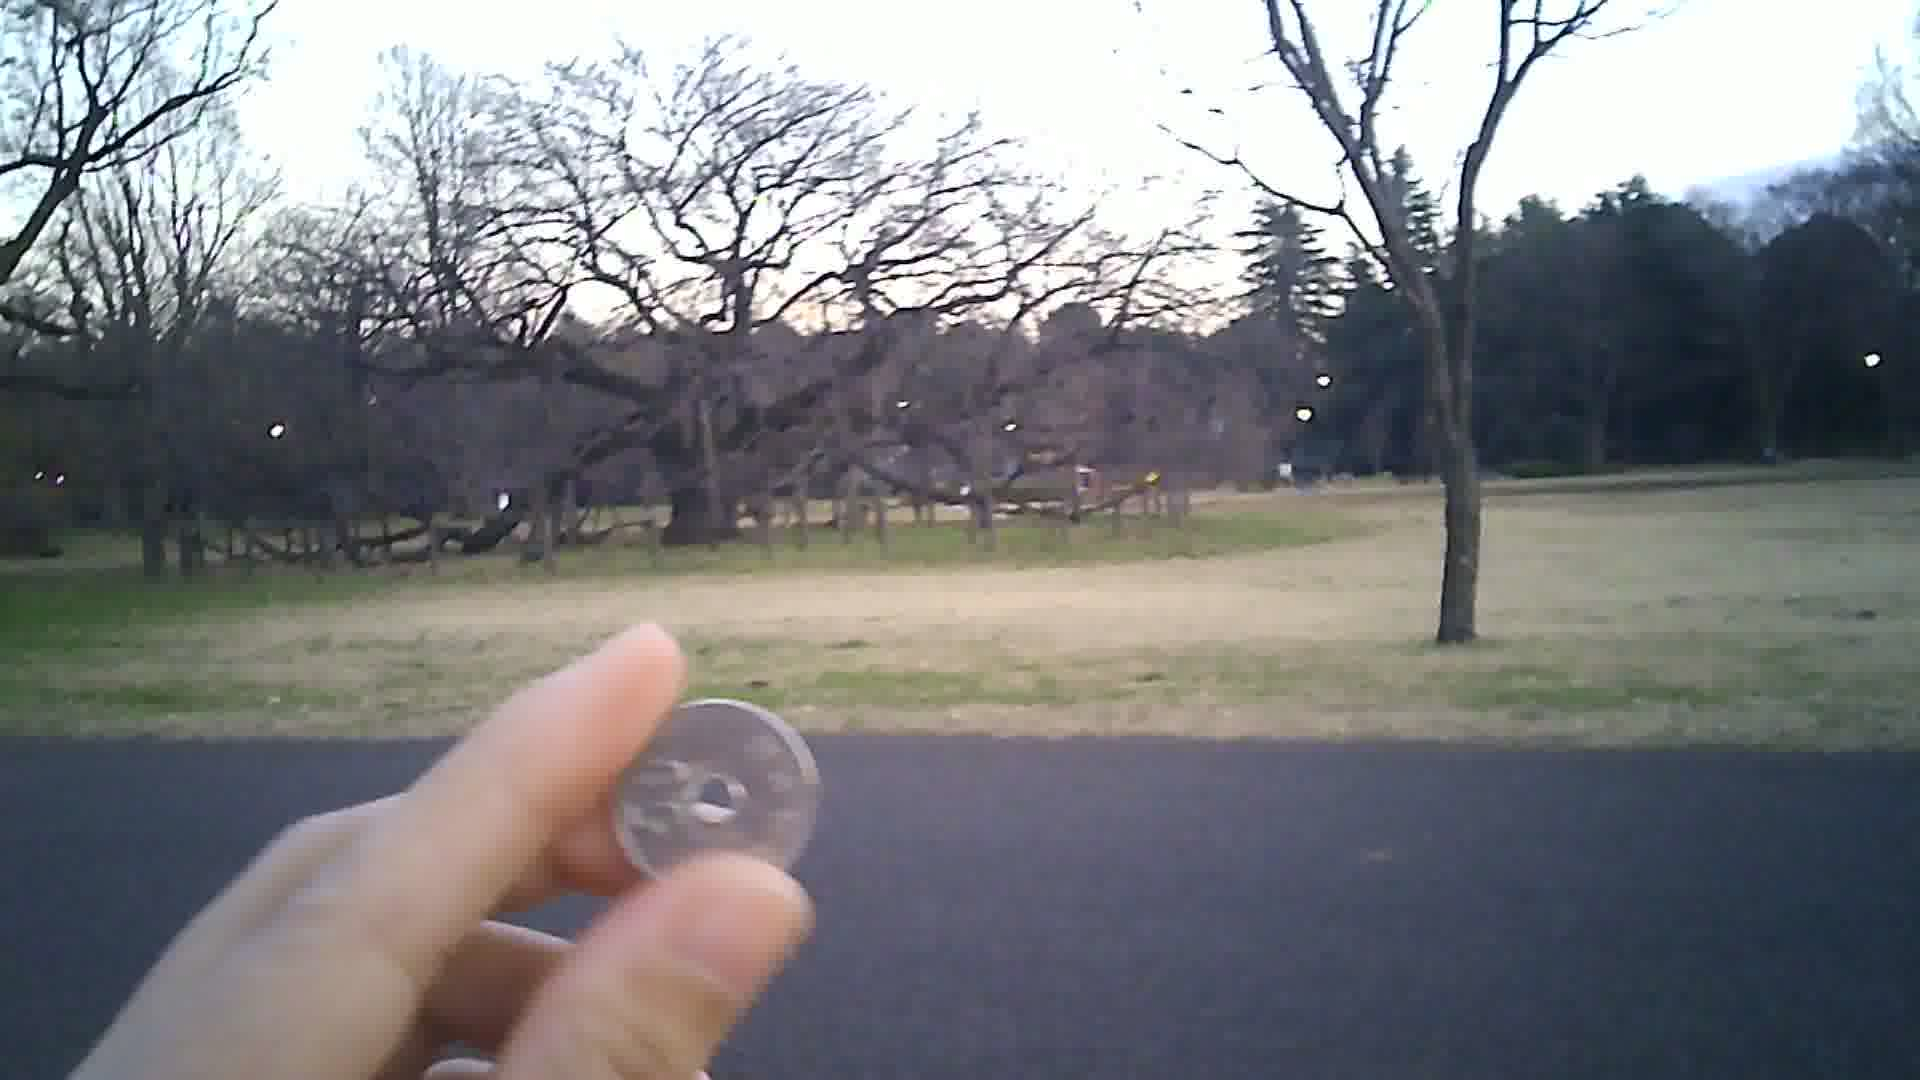50 Yen: (612, 698, 816, 891)
